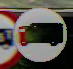Heavy Vehicles: (8, 6, 72, 60)
